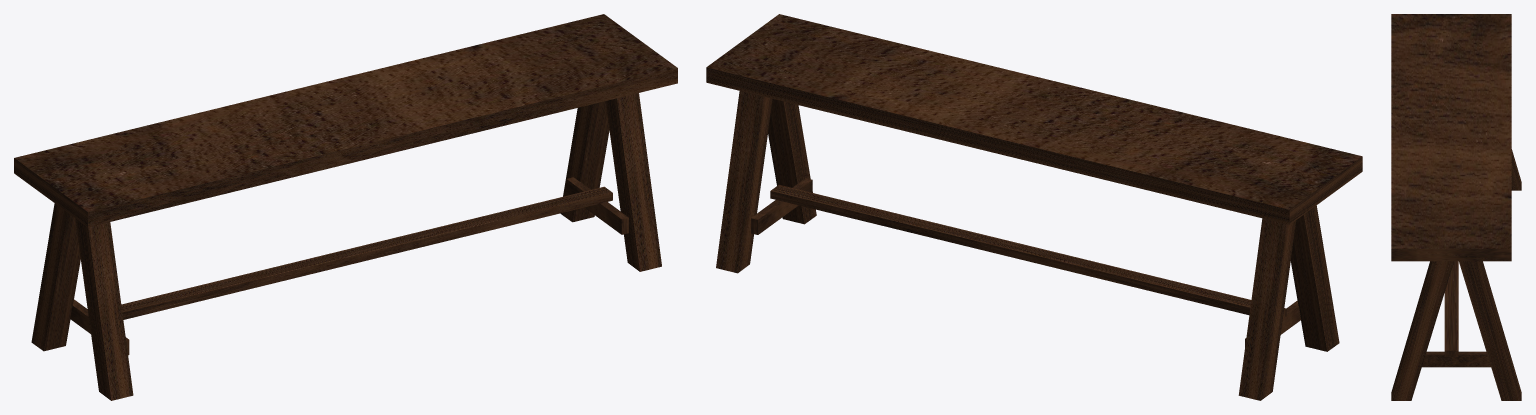
The model's file is banch.glb.
3 renders of one model, left to right at view 1: azimuth 30°, elevation 25°; view 2: azimuth 150°, elevation 25°; view 3: azimuth 270°, elevation 25°, orthographic. The views are drawn at different scales.
Parts seen in each view (by area): view 1: Cube, Cube.005, Cube.002, Cube.004, Cube.001, Cube.003, Cube.007; view 2: Cube, Cube.005, Cube.001, Cube.003, Cube.002, Cube.004, Cube.007; view 3: Cube, Cube.003, Cube.004, Cube.005, Cube.007, Cube.001.
Part boxes in pixels (bbox=[...]): Cube: bbox=[14, 14, 677, 227]; Cube.005: bbox=[121, 186, 612, 319]; Cube.002: bbox=[75, 218, 133, 400]; Cube.004: bbox=[605, 93, 661, 271]; Cube.001: bbox=[31, 203, 80, 351]; Cube.003: bbox=[560, 101, 609, 222]; Cube.007: bbox=[566, 177, 628, 234]; Cube: bbox=[706, 14, 1362, 224]; Cube.005: bbox=[770, 185, 1286, 318]; Cube.001: bbox=[1238, 218, 1296, 400]; Cube.003: bbox=[716, 91, 772, 273]; Cube.002: bbox=[1291, 205, 1339, 351]; Cube.004: bbox=[768, 99, 816, 224]; Cube.007: bbox=[751, 178, 812, 234]; Cube: bbox=[1391, 14, 1511, 261]; Cube.003: bbox=[1459, 261, 1521, 400]; Cube.004: bbox=[1391, 261, 1453, 400]; Cube.005: bbox=[1444, 261, 1458, 356]; Cube.007: bbox=[1422, 351, 1490, 367]; Cube.001: bbox=[1511, 149, 1521, 190].
Bounding box in the file's own units: 8 × 2.52 × 1.88.
1 material, 1 textured.
